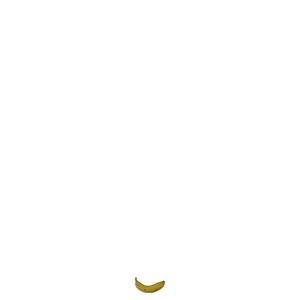banana: (128, 278, 169, 293)
